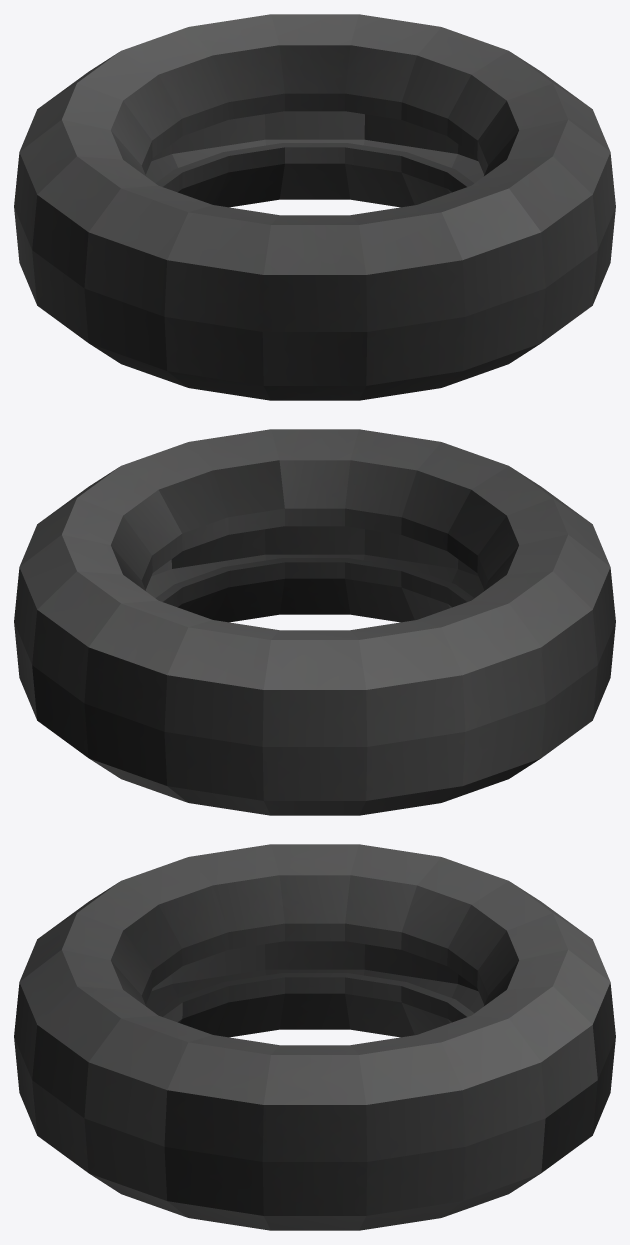
Rendered from tire.glb.
3 renders of one model, top to bottom at view 1: azimuth 30°, elevation 25°; view 2: azimuth 150°, elevation 25°; view 3: azimuth 270°, elevation 25°, orthographic.
Parts seen in each view (by area): view 1: tire; view 2: tire; view 3: tire.
Boxes of the visible parts, <box> form: tire: <box>14,14,615,400</box>; tire: <box>14,429,615,815</box>; tire: <box>14,844,615,1230</box>.
Size of the model in its own units: 0.8089 by 0.2645 by 0.8214.
1 material, 1 textured.
